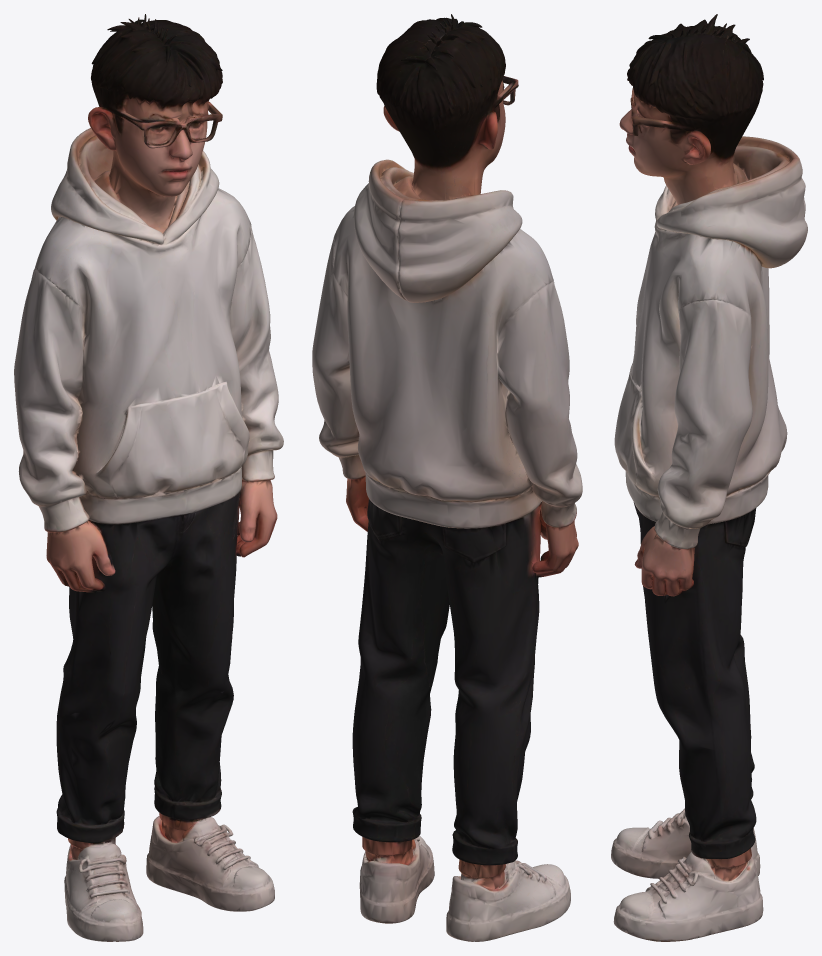
Rendered from mood-04.glb.
3 views of the same model, side by side, from view 1: azimuth 30°, elevation 25°; view 2: azimuth 150°, elevation 25°; view 3: azimuth 270°, elevation 25° (orthographic).
Visible parts, largest first — view 1: node_0; view 2: node_0; view 3: node_0.
Part boxes in pixels (x1,y1,x2,y2): node_0: (14, 14, 283, 941); node_0: (312, 14, 582, 941); node_0: (611, 14, 807, 941).
Size of the model in its own units: 0.3514 by 1.17 by 0.2389.
1 material, 1 textured.
